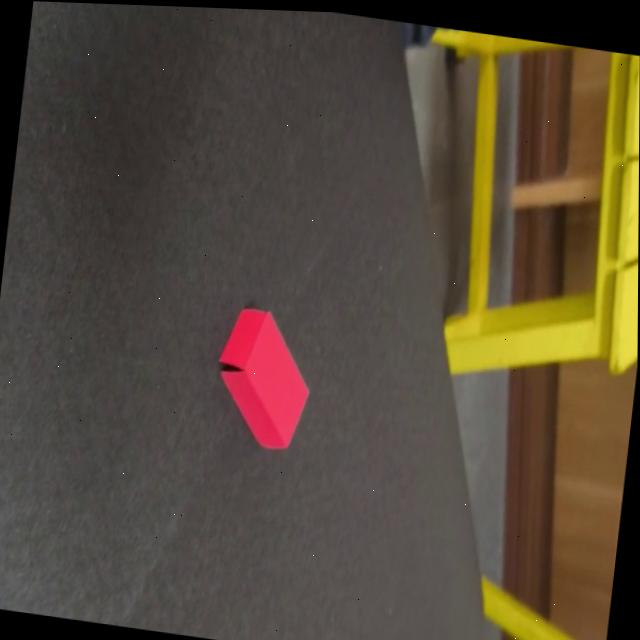red block: (209, 300, 318, 453)
